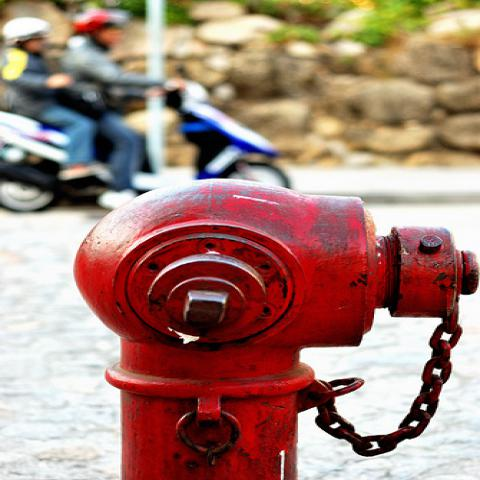motorcycle: (1, 77, 290, 211)
